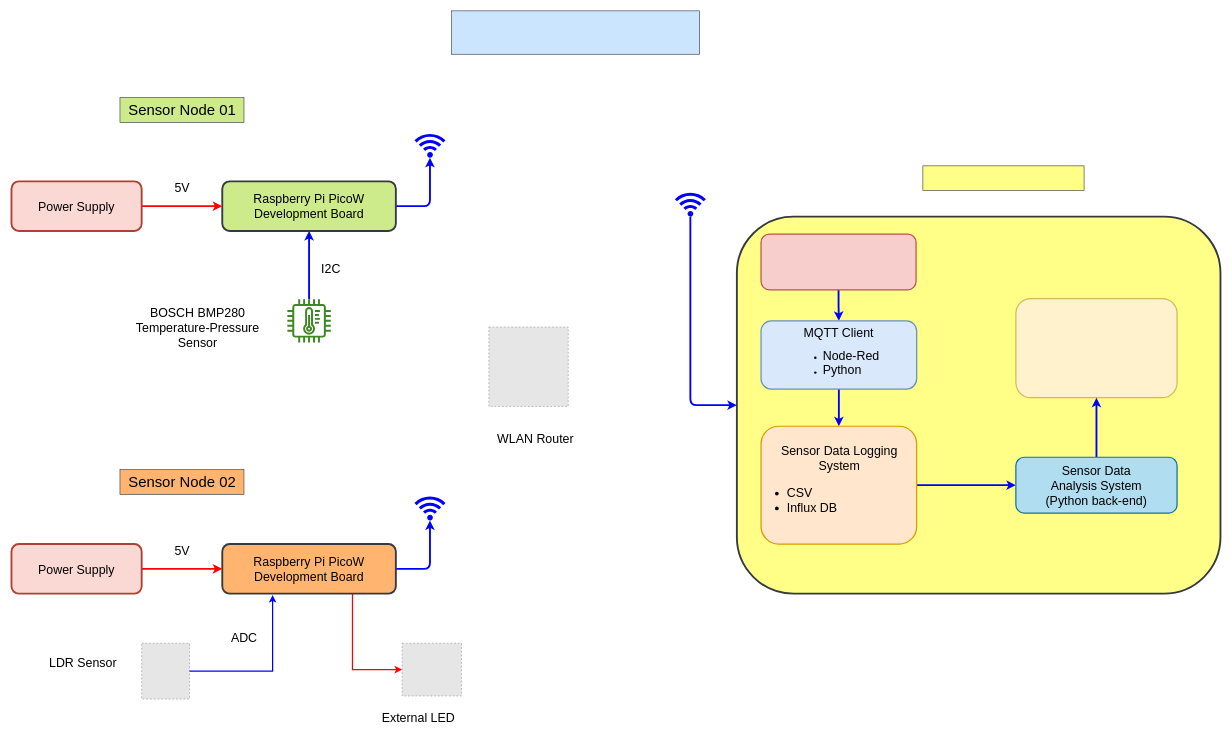
Some shapes in this 1232 by 741 pixel diagram are drawn without their labels. Grey dashed boxes stand in for pictures. Here are the shapes that lost their labels. From the top down, the centre of each, then its label:
At (575,32): "Measurement System Architecture Phase 1, Prototype 2".
At (1003,178): "Raspberry Pi400 SBC".
At (838,261): "Mosquitto MQTT Broker".
At (1096,348): "Sensor Data Visualisation System Grafana Python Scripts".
